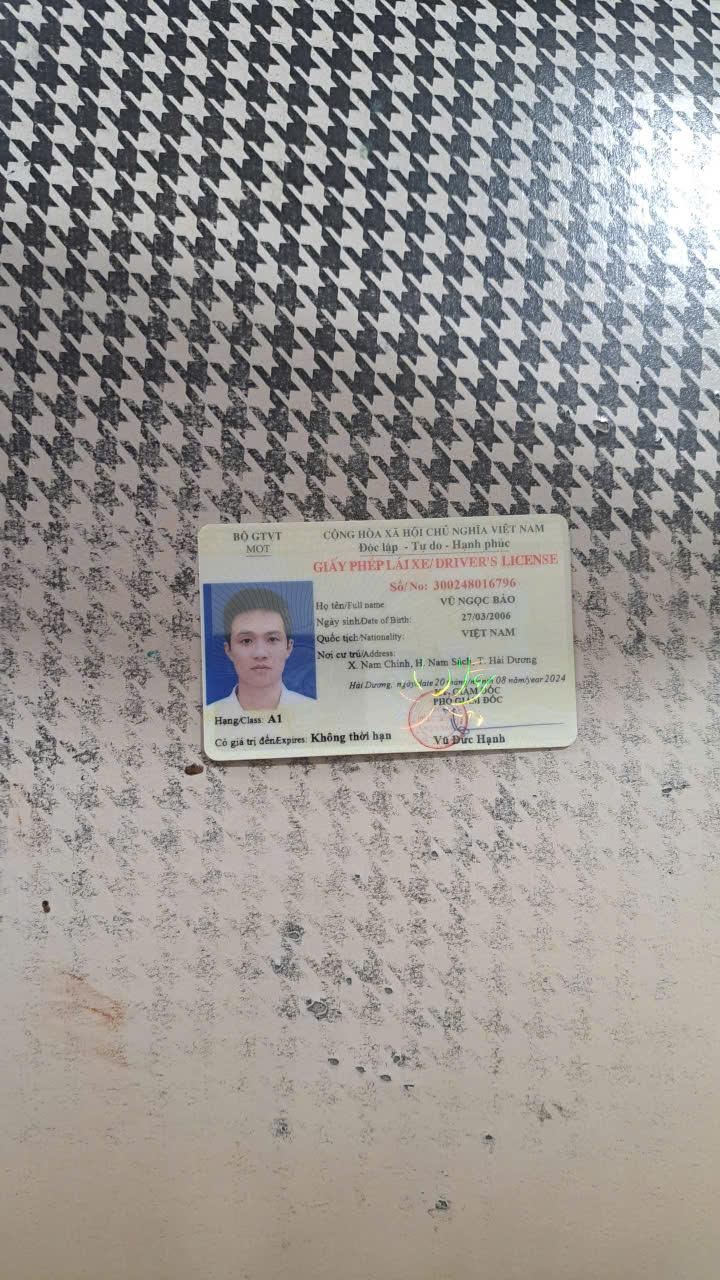gplx: (188, 507, 582, 767)
